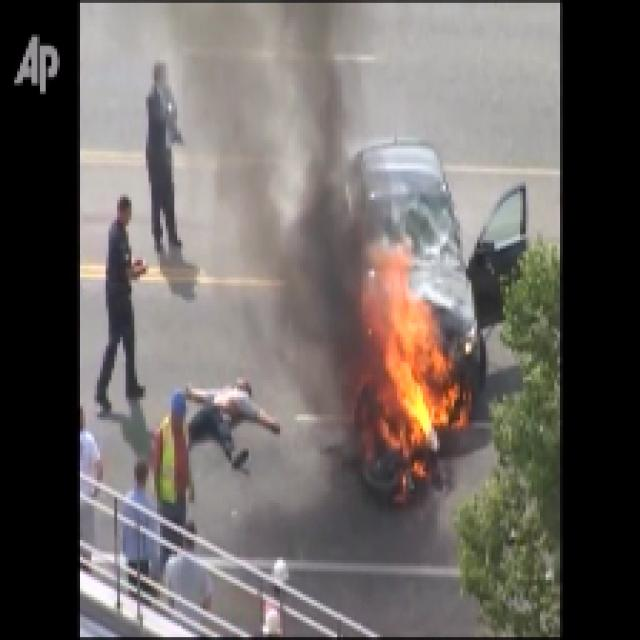fire: (237, 39, 368, 358), (383, 302, 444, 454)
